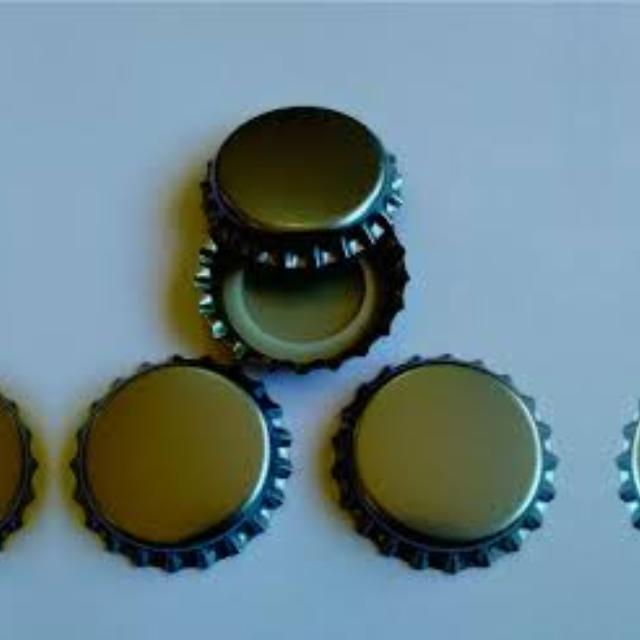Metal: (176, 99, 430, 375), (57, 326, 306, 584), (326, 360, 574, 600), (0, 326, 49, 583), (599, 360, 640, 600)
